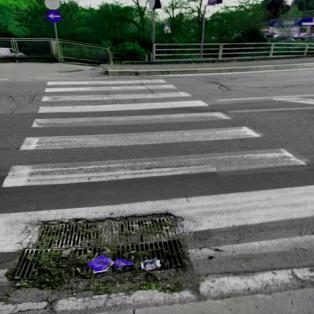Paso de Cebra: (8, 110, 281, 152), (40, 78, 178, 94)
